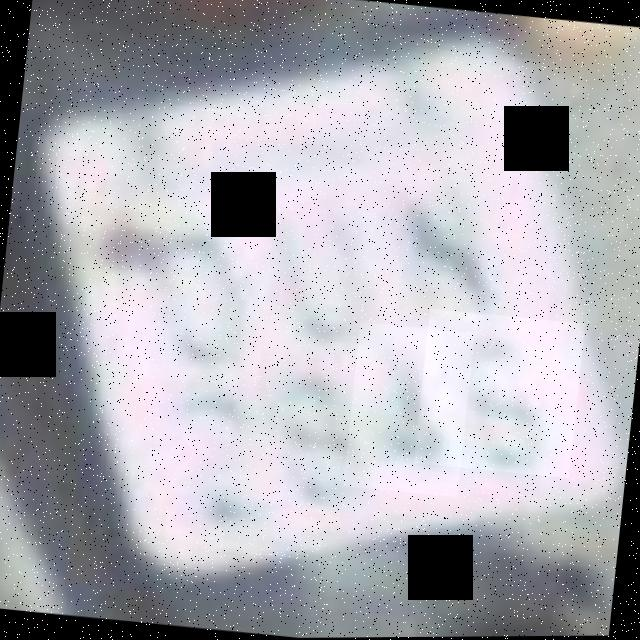2: (145, 354, 311, 553)
4: (342, 321, 474, 498)
6: (413, 308, 584, 480)
O: (122, 191, 276, 389)
U: (237, 158, 408, 366)
